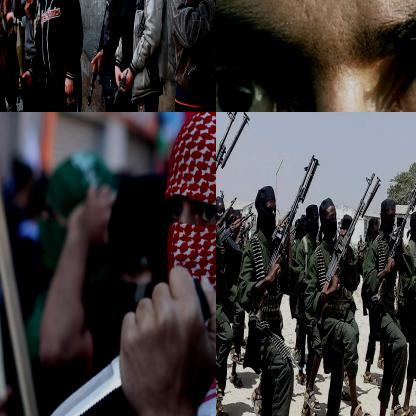knife: (31, 278, 202, 415)
rifle: (249, 153, 322, 324), (319, 171, 385, 319), (376, 175, 415, 302), (216, 112, 241, 286), (14, 17, 41, 111), (218, 206, 256, 254), (87, 47, 105, 109)
